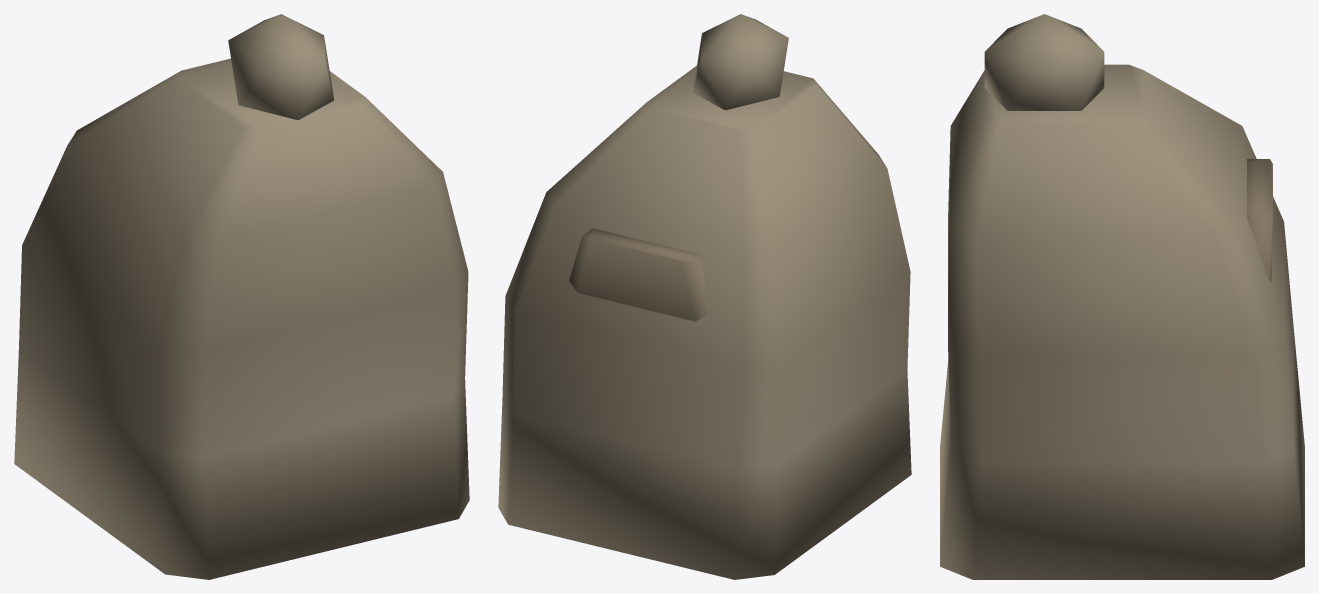
3 renders of one model, left to right at view 1: azimuth 30°, elevation 25°; view 2: azimuth 150°, elevation 25°; view 3: azimuth 270°, elevation 25°, orthographic. The views are drawn at different scales.
Visible parts, largest first — view 1: padded_hood; view 2: padded_hood; view 3: padded_hood.
Boxes of the visible parts, x1,y1,x2,y2 form: padded_hood: [14, 14, 469, 579]; padded_hood: [498, 14, 911, 579]; padded_hood: [940, 14, 1304, 579].
Size of the model in its own units: 0.2705 by 0.418 by 0.2806.
